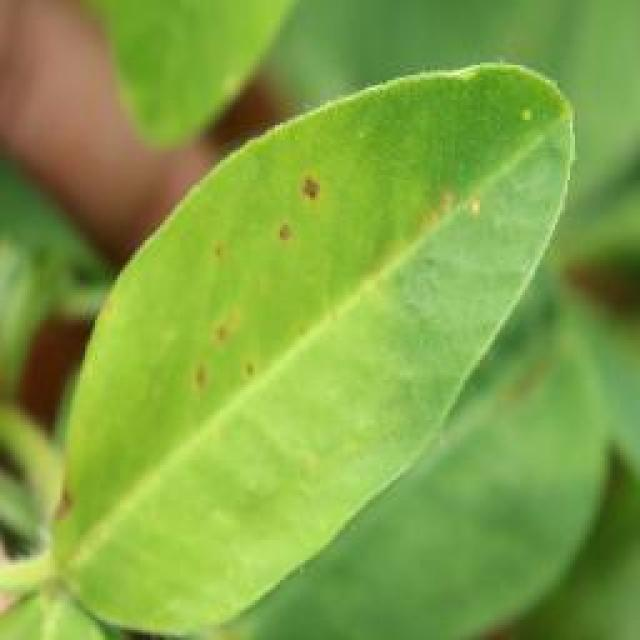Sigatoka: (158, 288, 270, 421), (244, 146, 352, 252), (414, 164, 490, 258), (188, 228, 258, 290)
